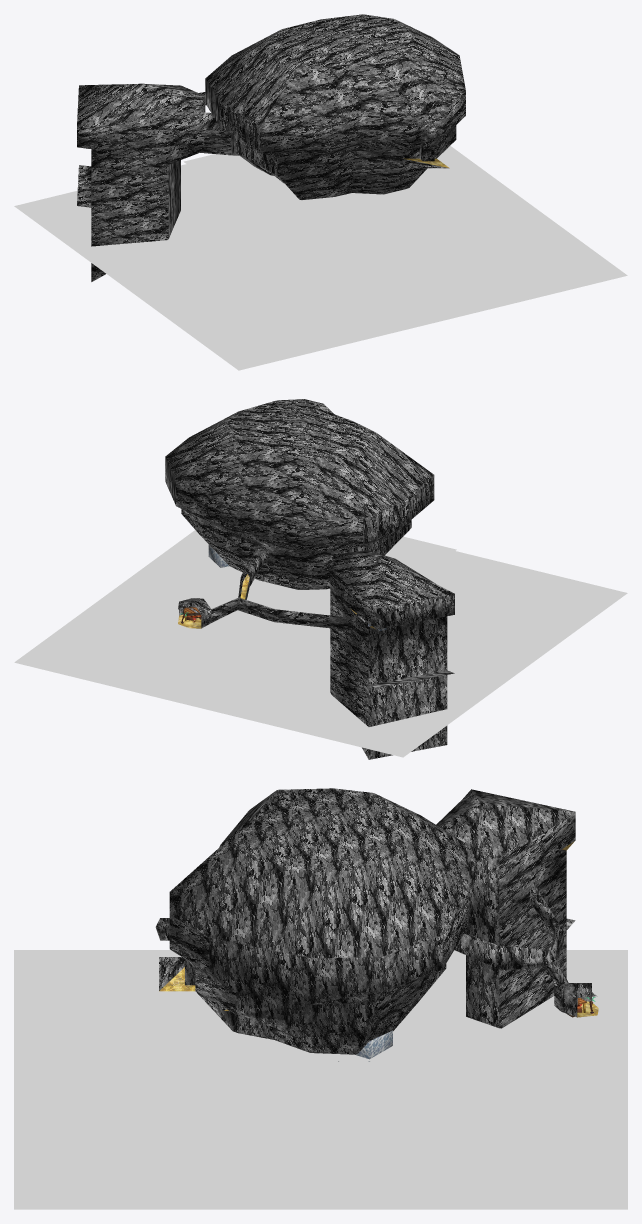
File: level 8 area 2.dae
The picture shows the model from 3 angles, top to bottom: view 1: azimuth 30°, elevation 25°; view 2: azimuth 150°, elevation 25°; view 3: azimuth 270°, elevation 25°; orthographic projection. The views are drawn at different scales.
Parts seen in each view (by area): view 1: max_level_size_sm64__1_; view 2: max_level_size_sm64__1_; view 3: max_level_size_sm64__1_.
Boxes of the visible parts, <box> form: max_level_size_sm64__1_: <box>14,14,627,370</box>; max_level_size_sm64__1_: <box>14,399,627,759</box>; max_level_size_sm64__1_: <box>14,788,627,1209</box>.
Bounding box in the file's own units: 236 × 236 × 137.
